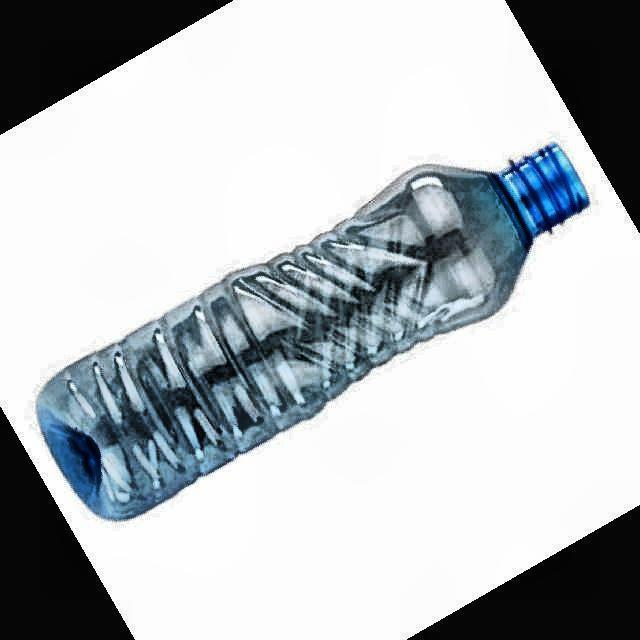plastic: (38, 145, 589, 519)
